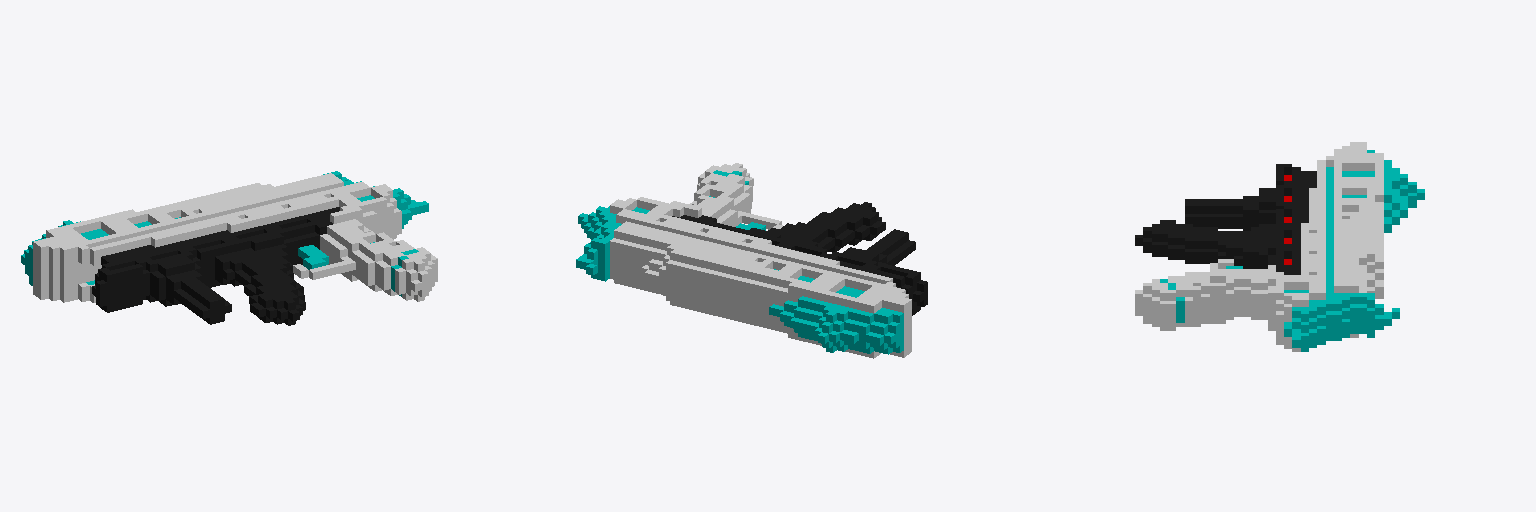
3 views of the same model, side by side, from view 1: azimuth 30°, elevation 25°; view 2: azimuth 150°, elevation 25°; view 3: azimuth 270°, elevation 25° (orthographic).
Visible parts, largest first — view 1: object 1; view 2: object 1; view 3: object 1.
Boxes of the visible parts, box(x1,y1,x2,y2) form: object 1: box(21, 171, 437, 325); object 1: box(576, 163, 927, 358); object 1: box(1135, 142, 1424, 351).
Size of the model in its own units: 5 by 0.7 by 3.5.
Materials: 1 (1 with a texture image).